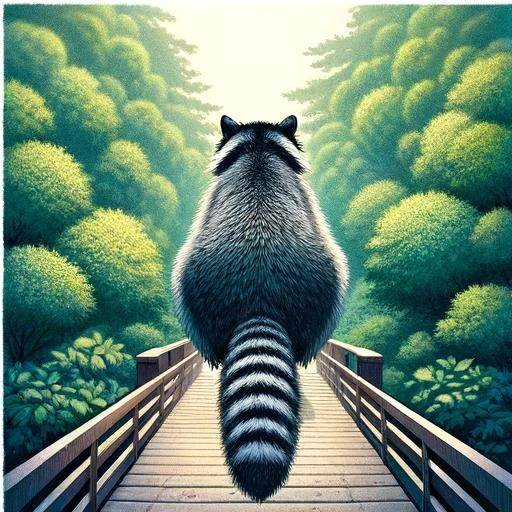raccoon: (162, 107, 358, 512)
